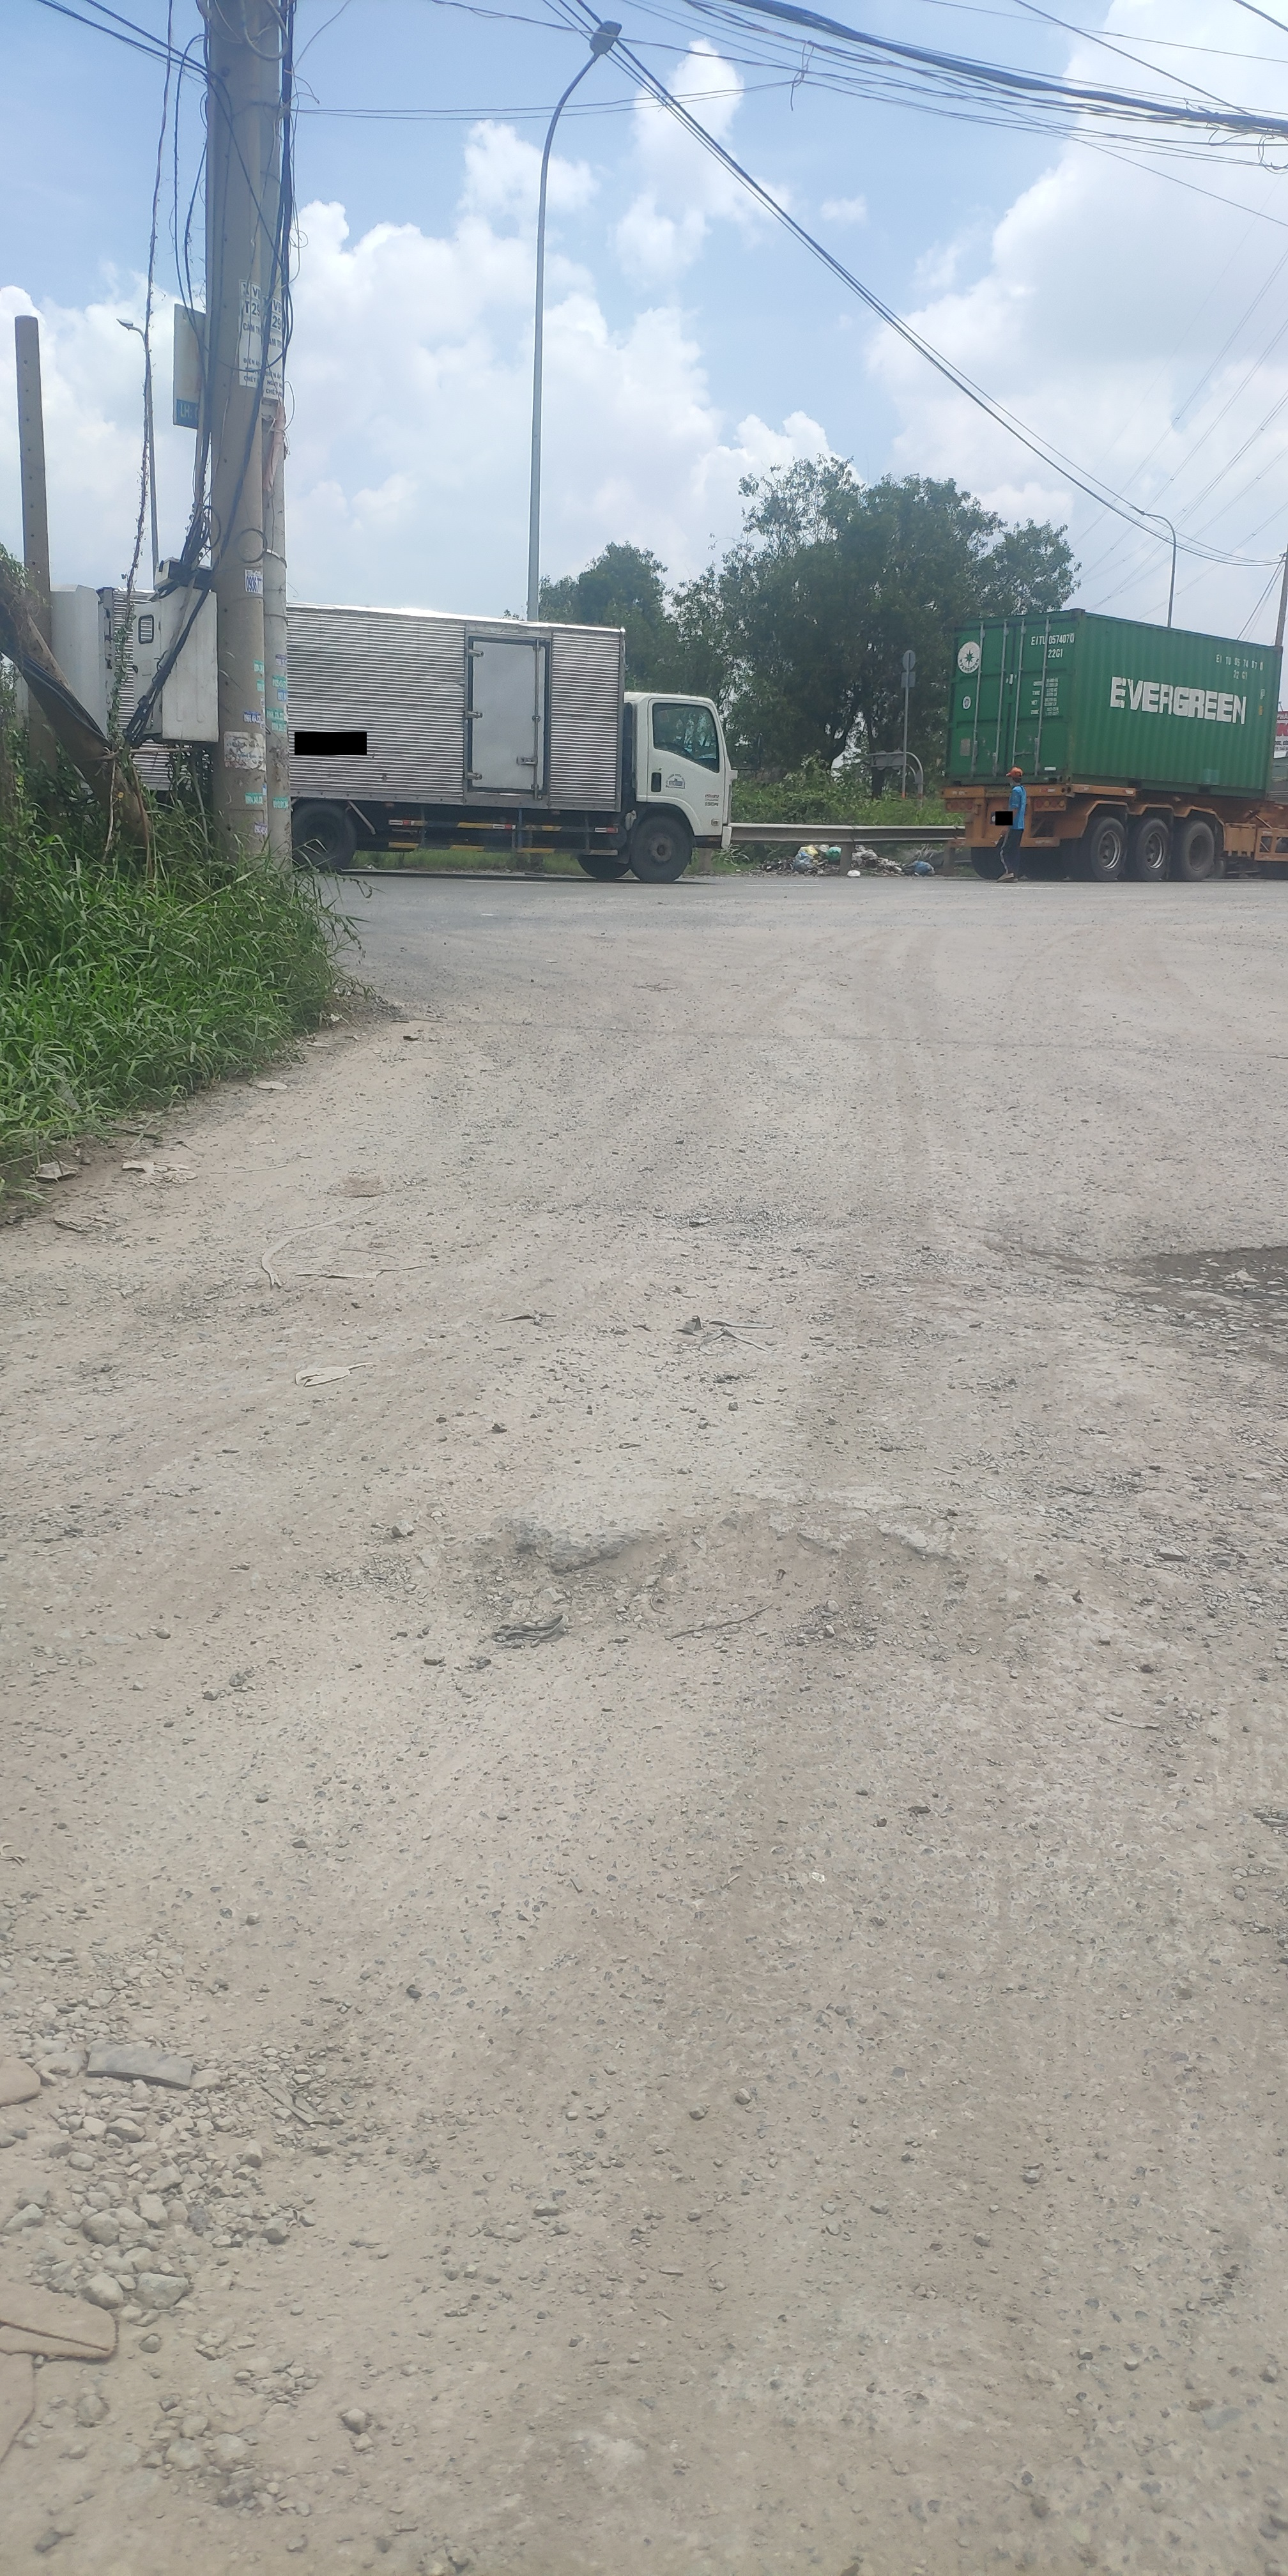hole: (471, 1490, 1033, 1687), (1125, 1230, 1288, 1360)
